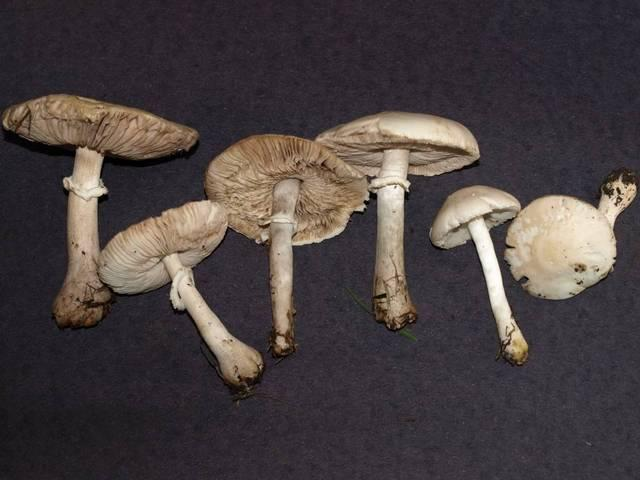poisonous_mushroom: (0, 91, 200, 330), (203, 132, 371, 358), (313, 109, 480, 331), (96, 198, 265, 399), (428, 183, 529, 366), (503, 165, 638, 301)
